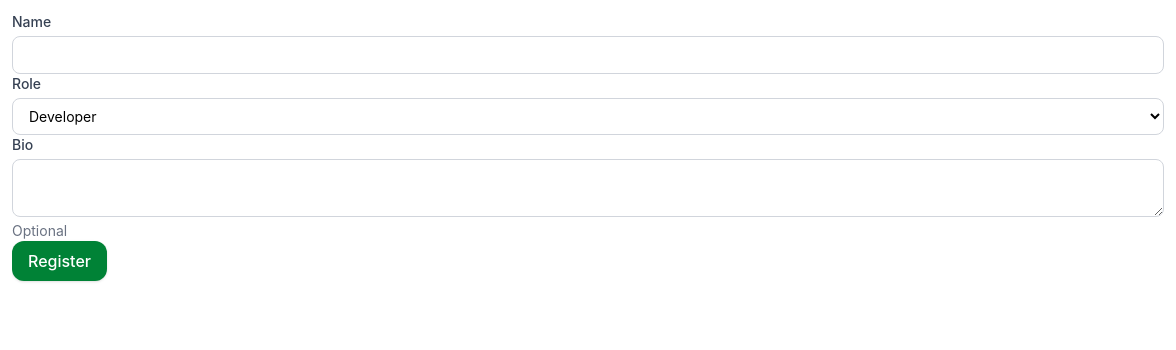
Registration Form Integration › clears errors on valid input after initial error
Click the button "Register" at x=60, y=261, box [12, 241, 107, 281]
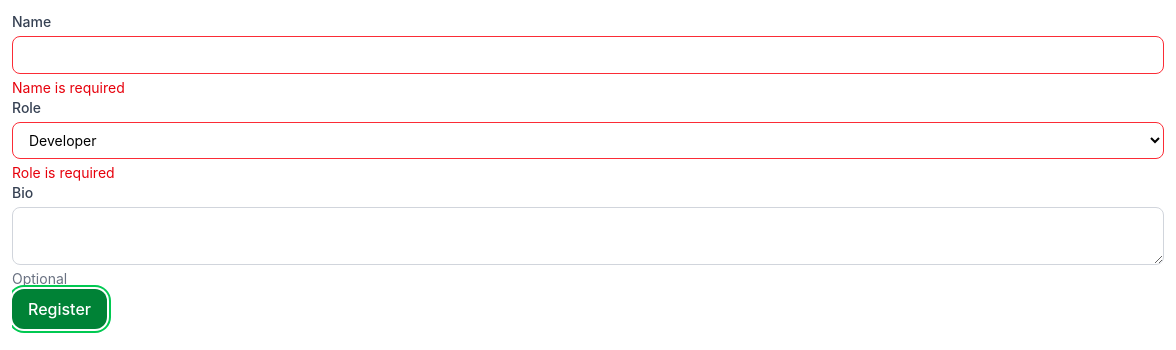
Check: the text "Name is required" is shown, box [12, 79, 125, 96]
Type "Alice" into the field labelled "Name" at x=588, y=55, box [12, 36, 1164, 74]
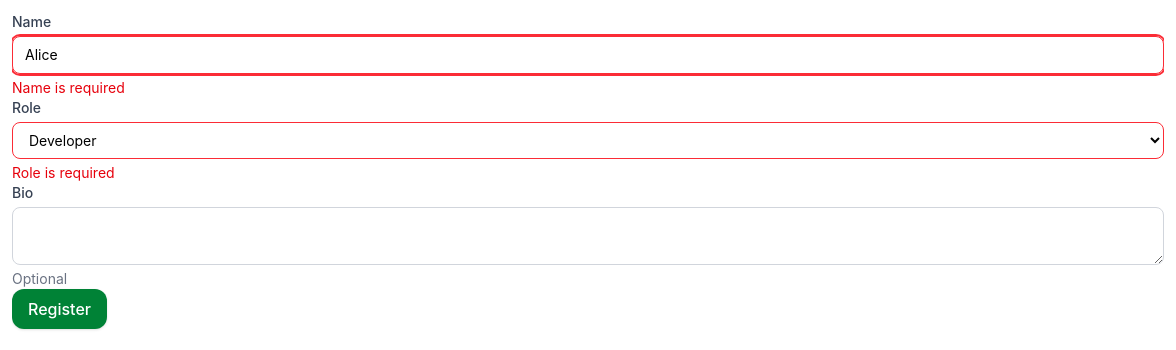
Select "Developer" in the dropdown labelled "Role" at x=588, y=140, box [12, 122, 1164, 159]
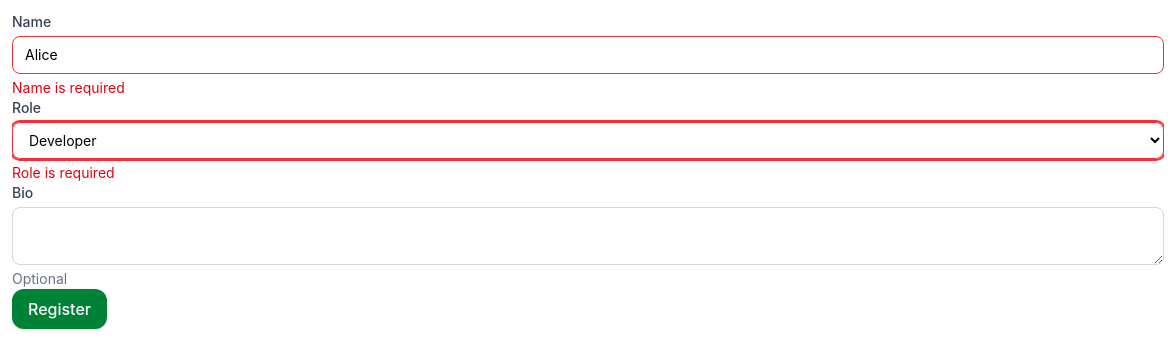
Click the button "Register" at x=60, y=309, box [12, 289, 107, 329]
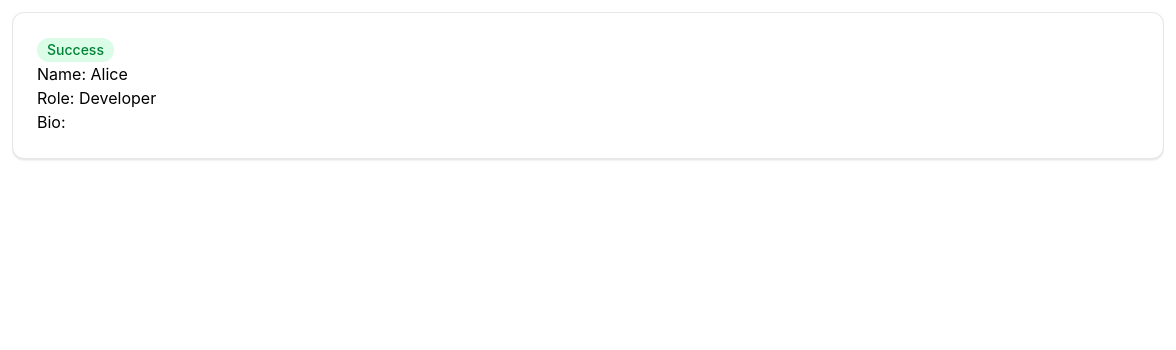
Check: the text "Success" is shown, box [37, 38, 114, 62]
